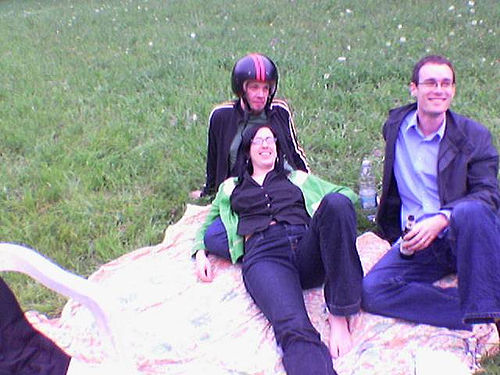helmet: (231, 50, 279, 89)
